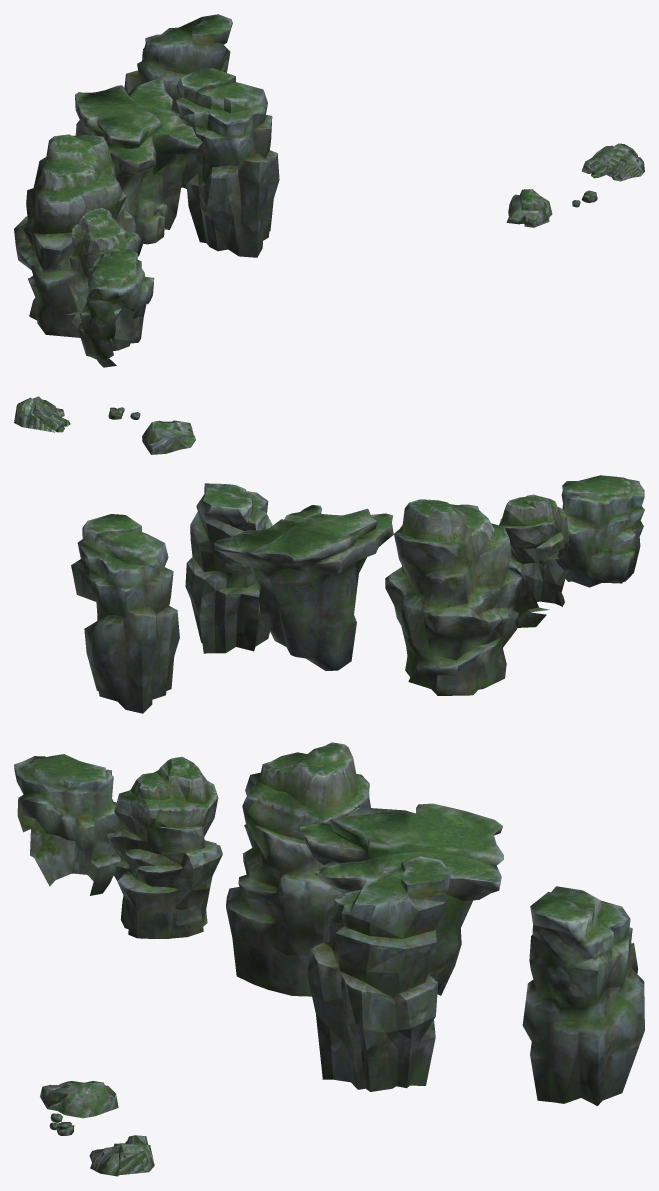
File: shan_shi_013.FBX
The picture shows the model from 3 angles, top to bottom: view 1: azimuth 30°, elevation 25°; view 2: azimuth 150°, elevation 25°; view 3: azimuth 270°, elevation 25°; orthographic projection. The views are drawn at different scales.
Visible parts, largest first — view 1: shan_shi_013_f, shan_shi_013_c, shan_shi_013_d, shan_shi_013_a, shan_shi_013_g, shan_shi_013_b, shan_shi_013_k, shan_shi_013_h; view 2: shan_shi_013_c, shan_shi_013_d, shan_shi_013_g, shan_shi_013_f, shan_shi_013_a, shan_shi_013_b, shan_shi_013_h, shan_shi_013_k; view 3: shan_shi_013_f, shan_shi_013_g, shan_shi_013_c, shan_shi_013_b, shan_shi_013_d, shan_shi_013_a, shan_shi_013_h, shan_shi_013_k.
Part boxes in pixels (x1,y1,x2,y2): shan_shi_013_f: (176,68,279,257); shan_shi_013_c: (14,134,136,337); shan_shi_013_d: (75,78,202,256); shan_shi_013_a: (78,248,154,367); shan_shi_013_g: (124,14,232,188); shan_shi_013_b: (67,208,146,350); shan_shi_013_k: (581,143,644,181); shan_shi_013_h: (506,189,552,227); shan_shi_013_c: (385,499,522,695); shan_shi_013_d: (214,505,393,670); shan_shi_013_g: (71,514,179,713); shan_shi_013_f: (185,483,272,653); shan_shi_013_a: (555,475,644,587); shan_shi_013_b: (499,494,569,627); shan_shi_013_h: (142,420,195,454); shan_shi_013_k: (14,396,70,432); shan_shi_013_f: (307,856,450,1091); shan_shi_013_g: (522,886,644,1105); shan_shi_013_c: (226,742,370,996); shan_shi_013_b: (107,756,222,938); shan_shi_013_d: (299,803,503,995); shan_shi_013_a: (14,754,121,895); shan_shi_013_h: (40,1081,118,1118); shan_shi_013_k: (89,1135,154,1176).
Size of the model in its own units: 1570 by 445 by 1134.
1 material, 1 textured.
